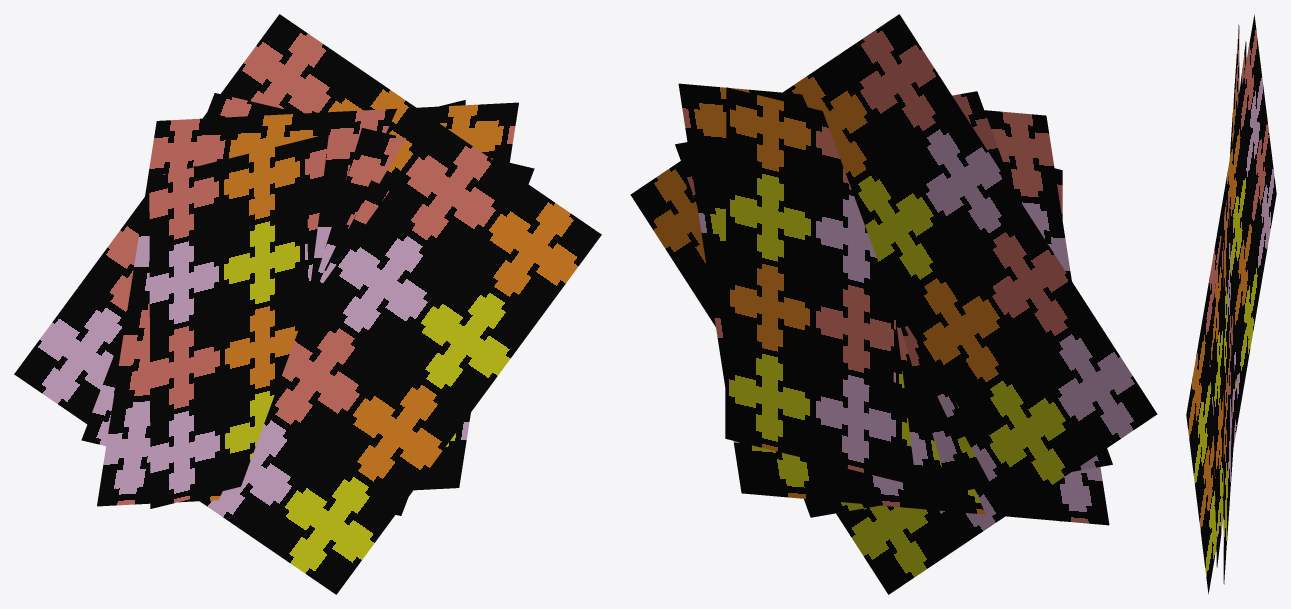
3 renders of one model, left to right at view 1: azimuth 30°, elevation 25°; view 2: azimuth 150°, elevation 25°; view 3: azimuth 270°, elevation 25°, orthographic. The views are drawn at different scales.
Parts seen in each view (by area): view 1: ef_018; view 2: ef_018; view 3: ef_018.
Part boxes in pixels (<box>): ef_018: <box>14,14,601,594</box>; ef_018: <box>630,14,1157,594</box>; ef_018: <box>1186,14,1276,594</box>.
Bounding box in the file's own units: 0.6304 × 0.6357 × 0.0923.
1 material, 1 textured.
